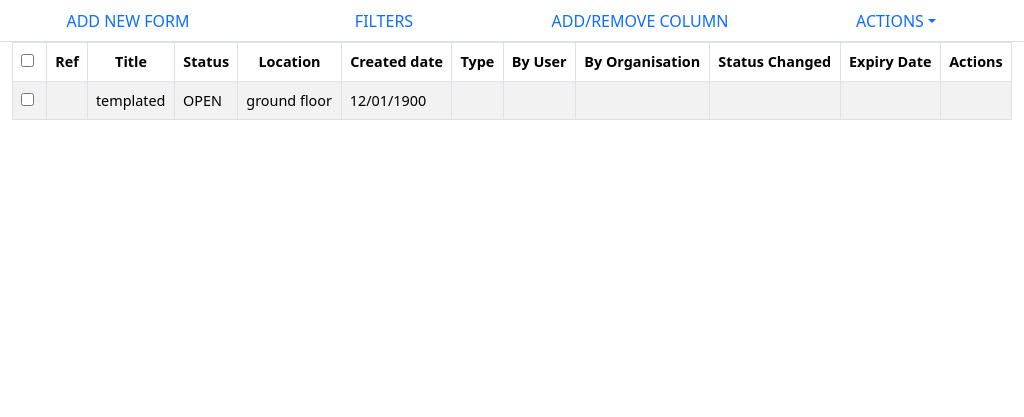
it: Display column config window
The image size is (1024, 417).
Click the button "ADD/REMOVE COLUMN": x=640, y=21 [552, 10, 728, 32]
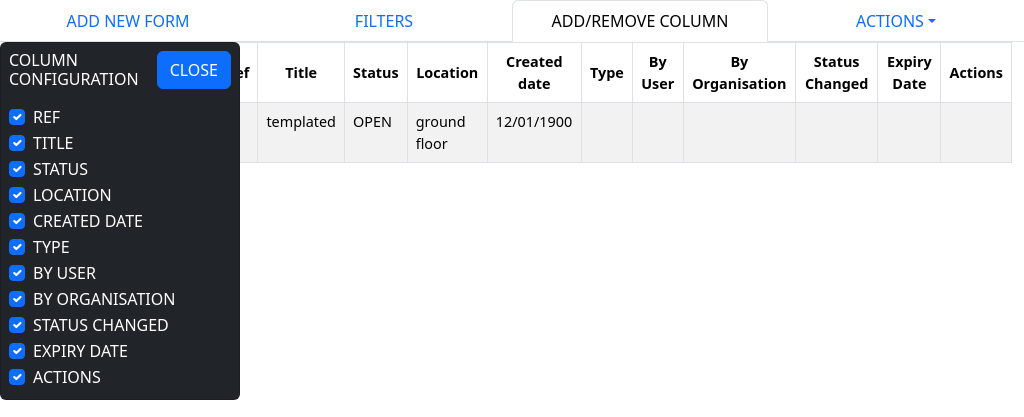
Expected: the text "COLUMN CONFIGURATION" is shown, [9, 51, 157, 89]
